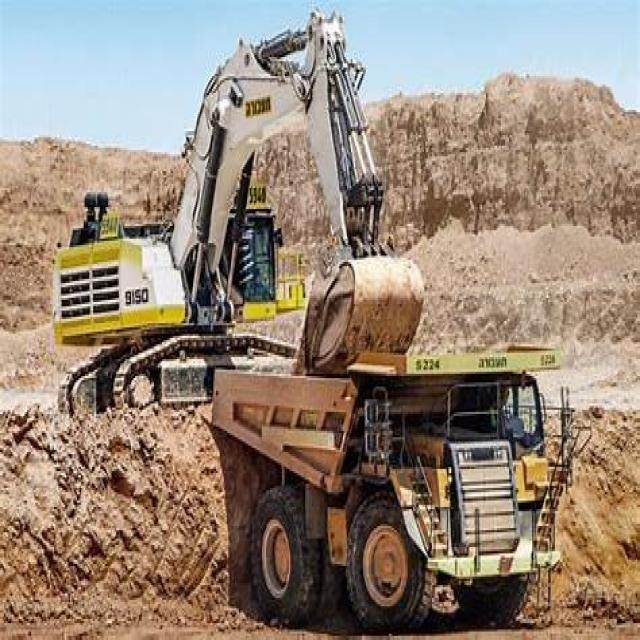dump_truck: (201, 327, 570, 623)
excavator: (39, 12, 428, 410)
